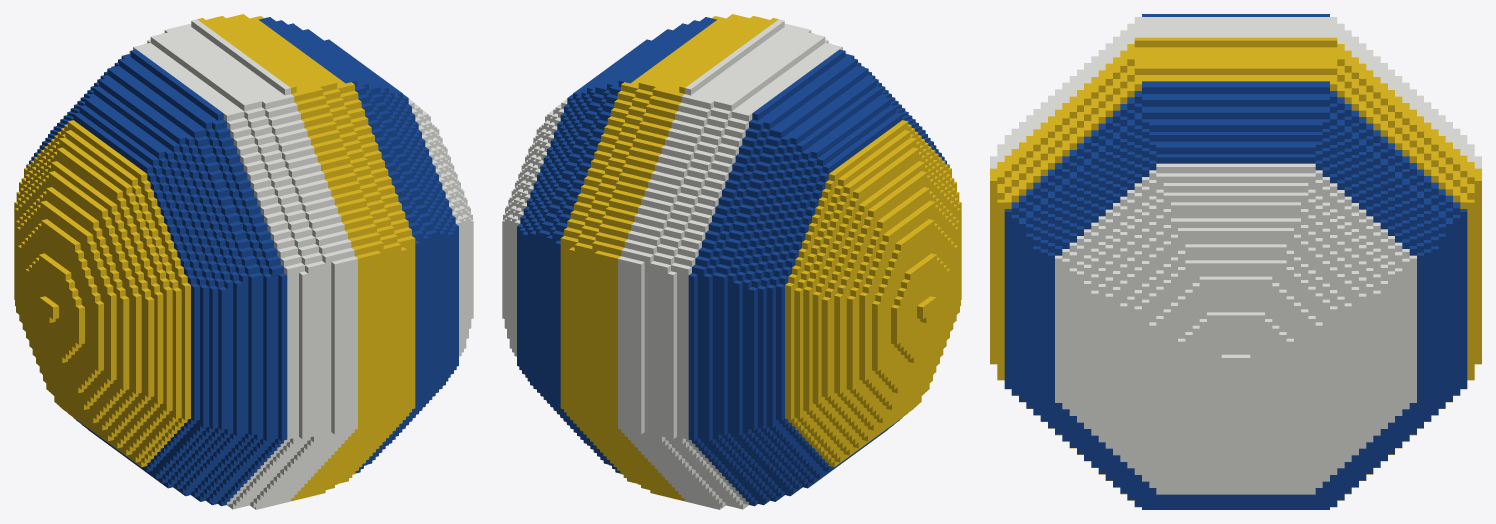
File: beach_volleyball.glb
3 renders of one model, left to right at view 1: azimuth 30°, elevation 25°; view 2: azimuth 150°, elevation 25°; view 3: azimuth 270°, elevation 25°, orthographic. The views are drawn at different scales.
Parts seen in each view (by area): view 1: beach_volleyball:compound; view 2: beach_volleyball:compound; view 3: beach_volleyball:compound.
Boxes of the visible parts, x1,y1,x2,y2 form: beach_volleyball:compound: (14,14,473,509); beach_volleyball:compound: (502,14,961,509); beach_volleyball:compound: (990,14,1481,509).
Size of the model in its own units: 0.272 by 0.272 by 0.272.
